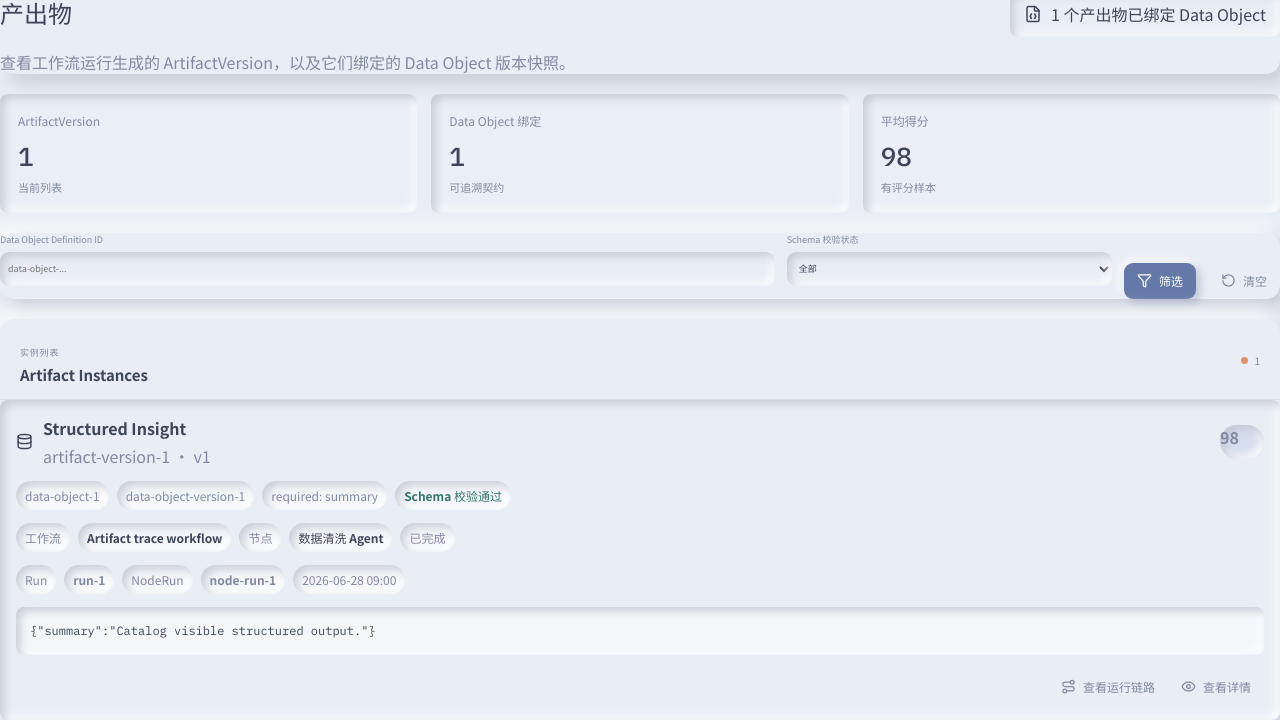
Test: Artifacts page › links artifact detail to the source run trace
(page scrolled)
Expected: the text "Structured Insight" is shown, [43,416,186,440]
Click the button with aria-label "查看 artifact-version-1 详情".
click(1216, 686)  # box [1168,668,1264,704]
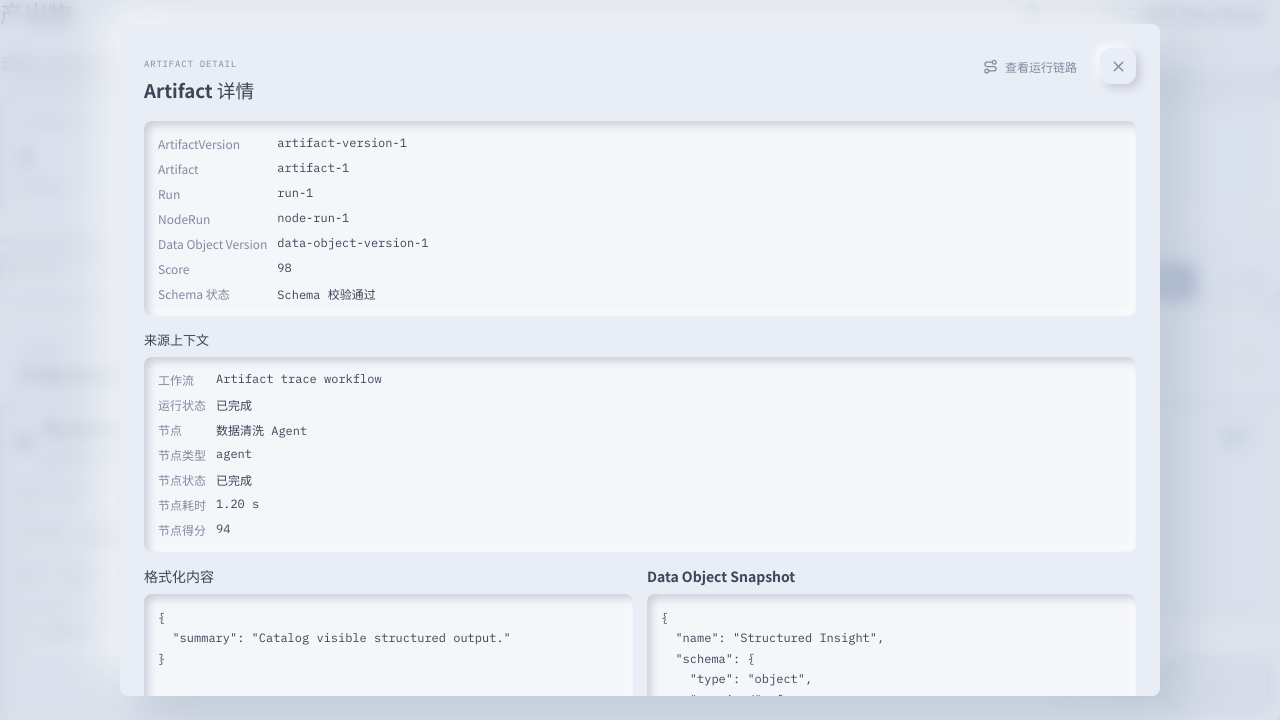
Result: the dialog "Artifact 详情" is shown
